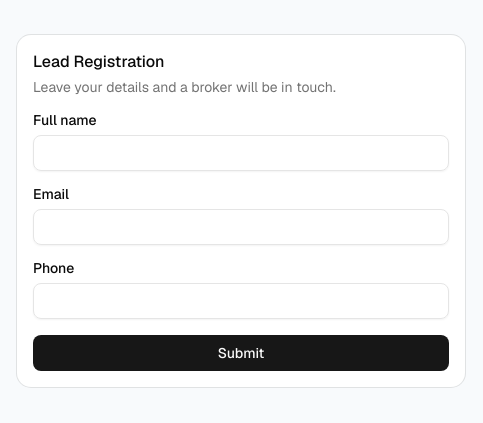
it: PublicFormPage › blocks submission when the email is malformed
The image size is (483, 423).
Expected: the text "Lead Registration" is shown, [33,51,164,72]
In the field labelled "Full name": (241, 153) [33,135,449,171], type "Jane Doe"
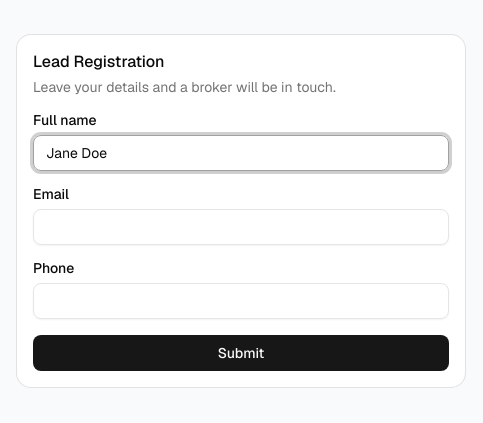
In the field labelled "Email": (241, 227) [33,209,449,245], type "not-an-email"
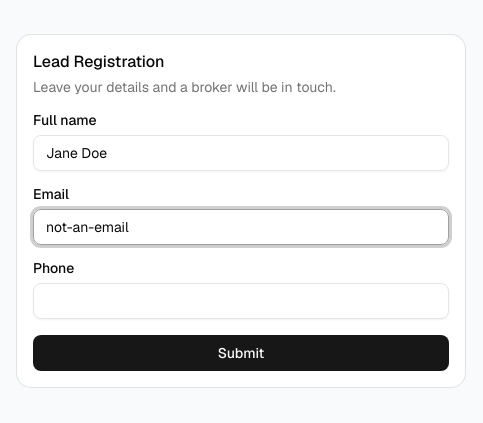
In the field labelled "Phone": (241, 301) [33,283,449,319], type "09171234567"
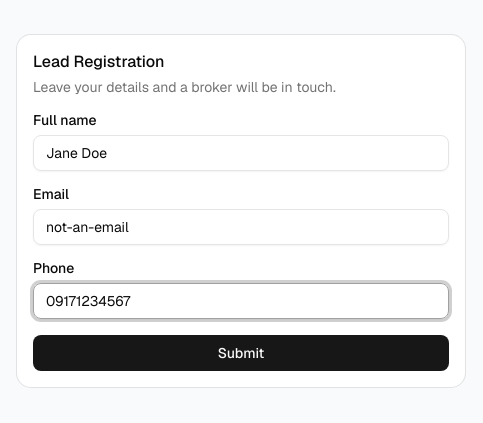
Click the button "Submit": click(241, 353) [33,335,449,371]
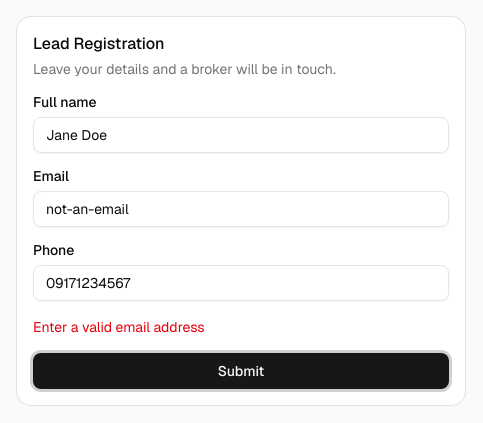
Expected: the message reads "Enter a valid email address", [33,318,205,336]
